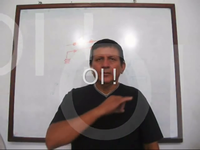oi: (100, 95, 136, 117)
